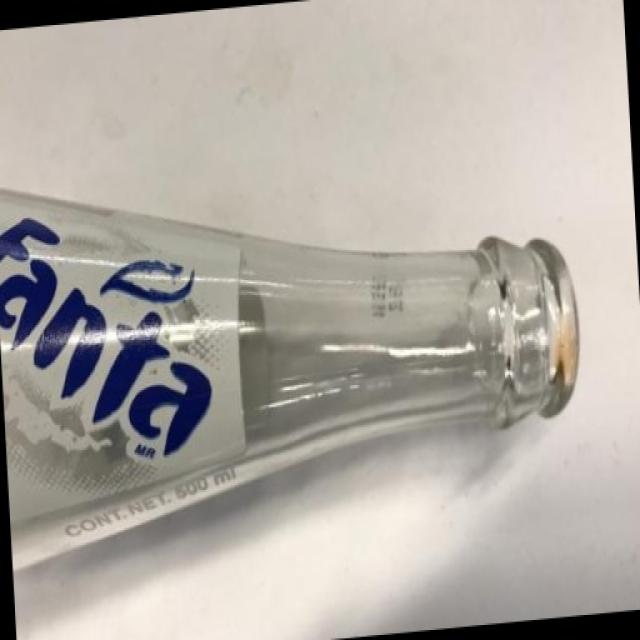vidrio: (5, 143, 640, 593)
